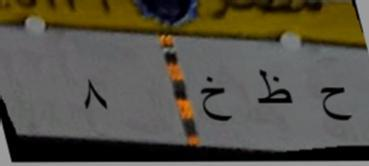7aa: (304, 73, 358, 134)
8: (69, 73, 116, 116)
Thaa: (247, 67, 295, 115)
khaa: (191, 70, 235, 132)
